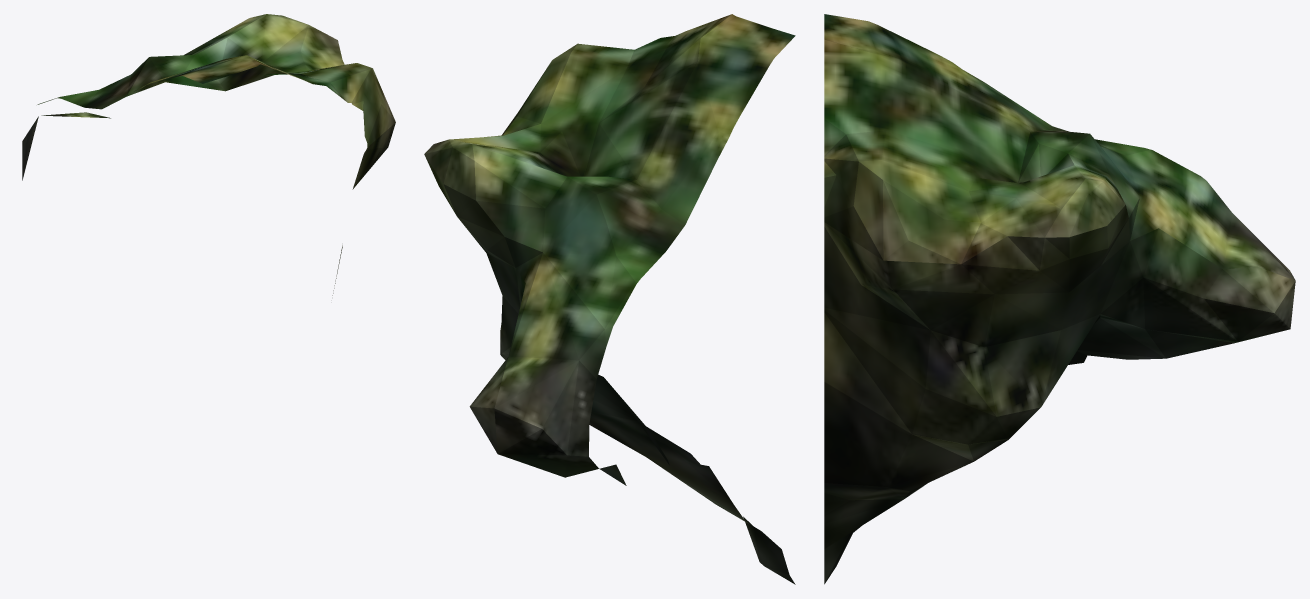
The picture shows the model from 3 angles, left to right: view 1: azimuth 30°, elevation 25°; view 2: azimuth 150°, elevation 25°; view 3: azimuth 270°, elevation 25°; orthographic projection. The views are drawn at different scales.
Bounding box in the file's own units: 0.2106 × 0.438 × 0.3268.
Materials: 1 (1 with a texture image).
